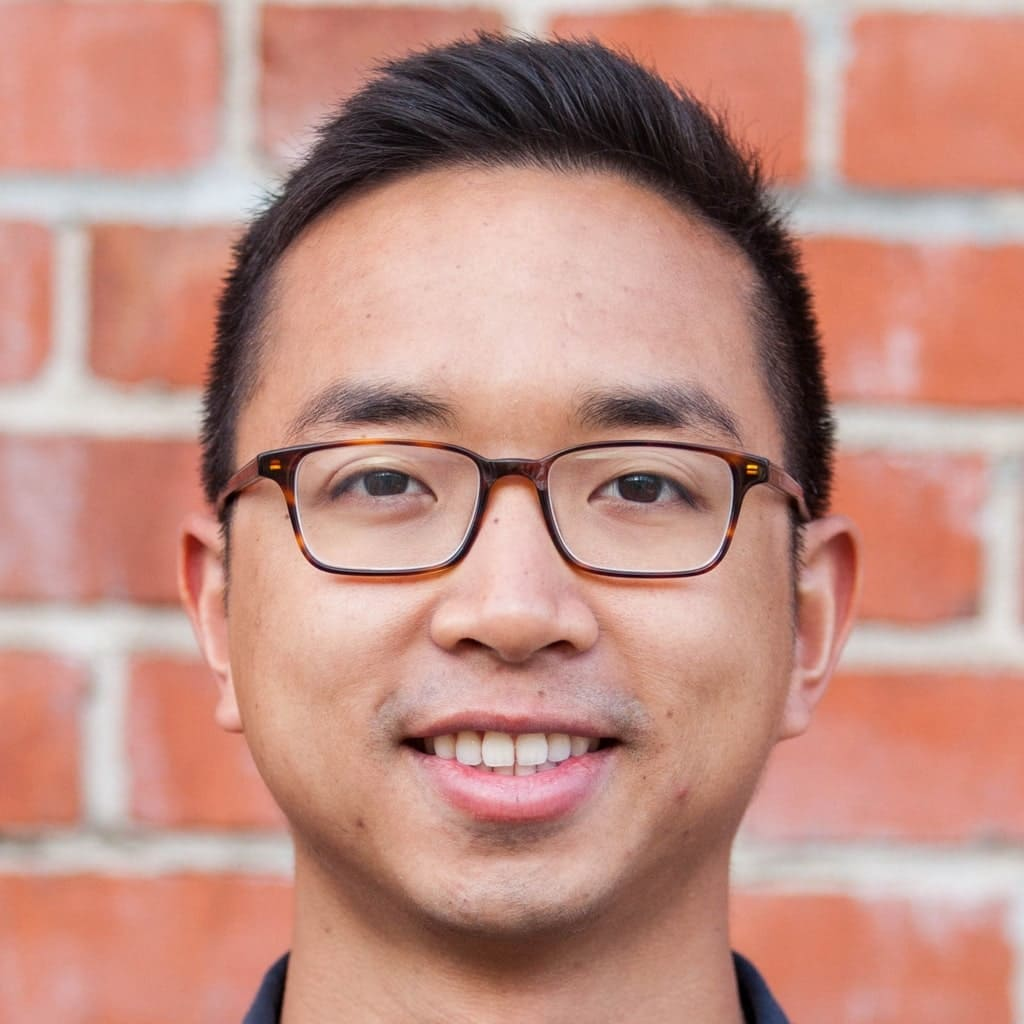without_mask: (260, 238, 746, 863)
